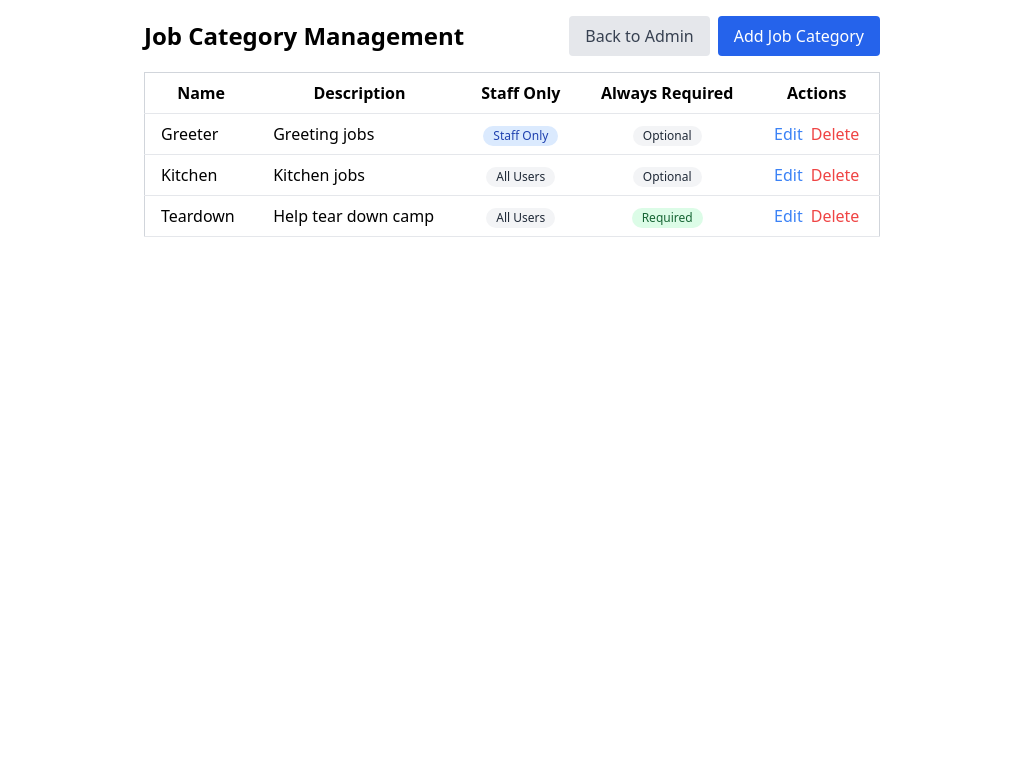
Scenario: AdminJobCategoriesPage › should open edit modal with correct field values based on category
Open the Greeter category (staffOnly: true, alwaysRequired: false)
Click the button with aria-label "Edit Greeter" at (788, 134), box [774,122,803,146]
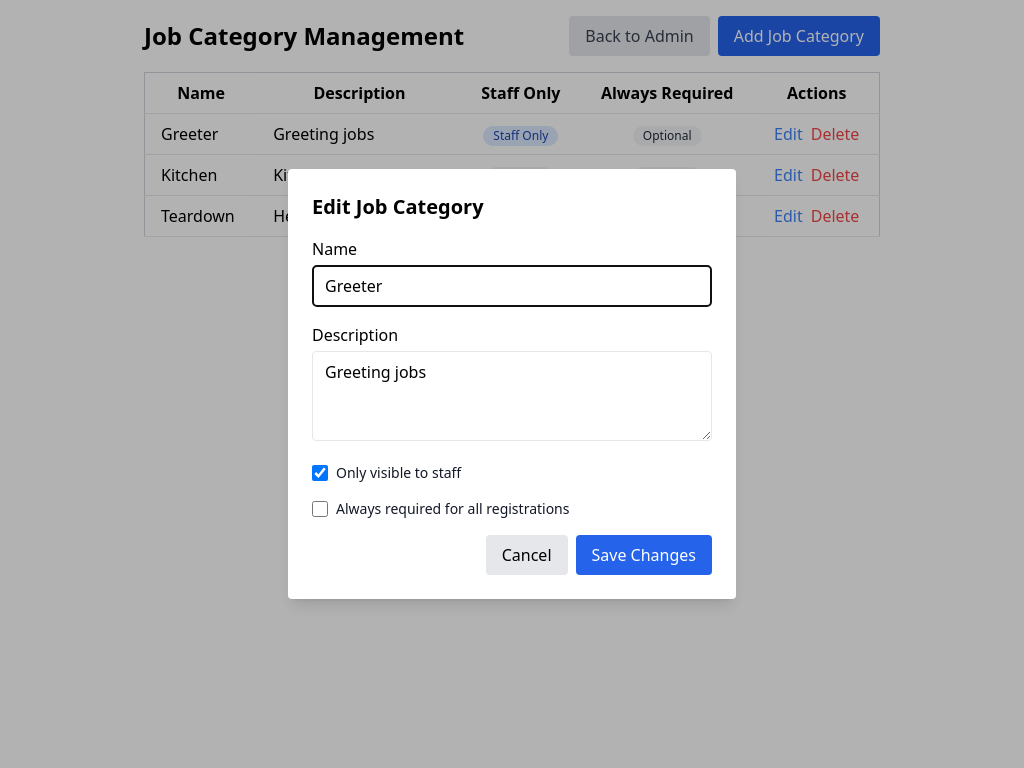
Expected: the checkbox labelled "Only visible to staff" is checked, [312,465,328,481]
Expected: the checkbox labelled "Always required for all registrations" is not checked, [312,501,328,517]
Cancel and open the Teardown category (staffOnly: false, alwaysRequired: true)
Click the button "Cancel" at (527, 555), box [486,535,568,575]
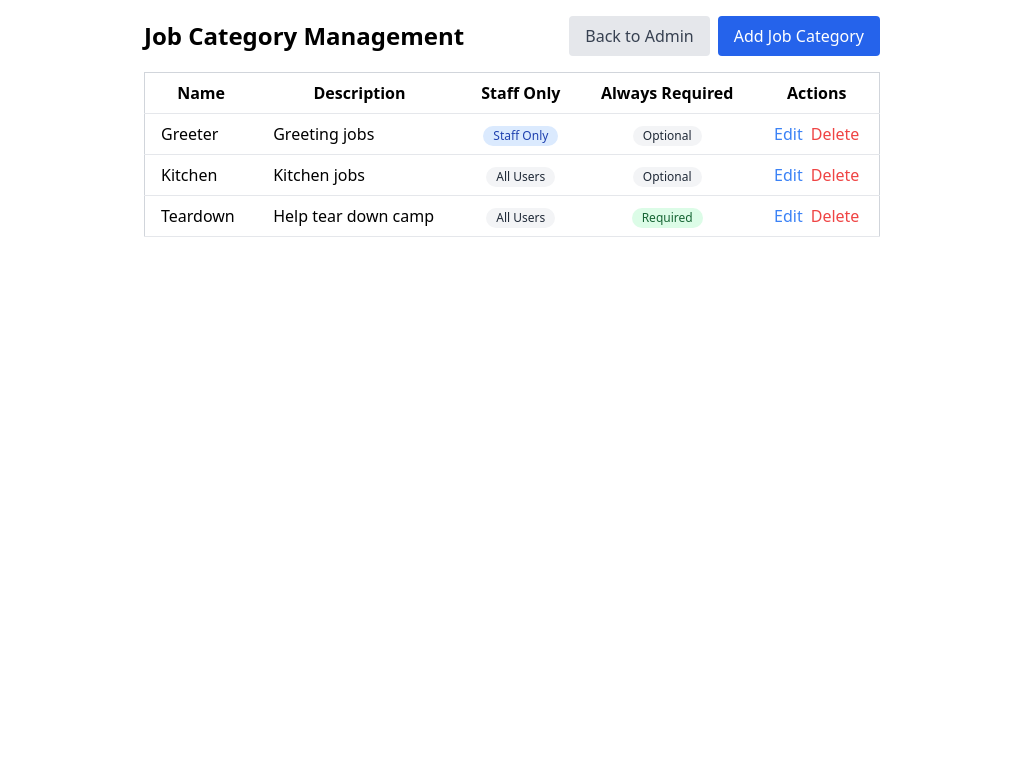
Click the button with aria-label "Edit Teardown" at (788, 216), box [774,204,803,228]
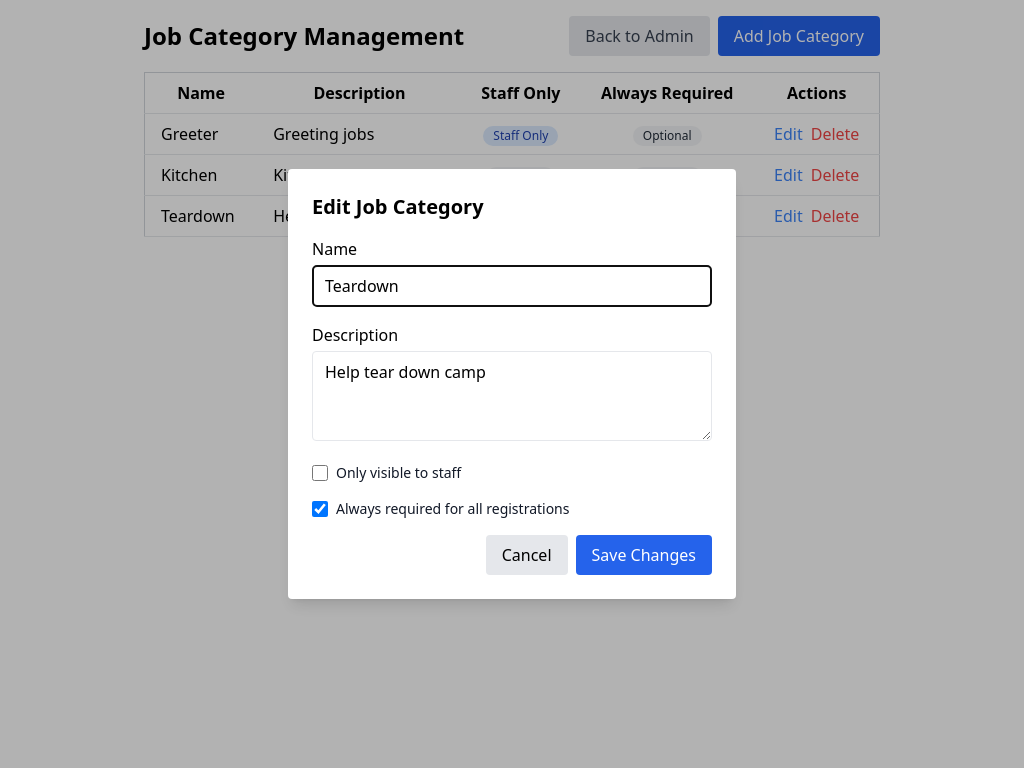
Expected: the checkbox labelled "Only visible to staff" is not checked, [312,465,328,481]
Expected: the checkbox labelled "Always required for all registrations" is checked, [312,501,328,517]
